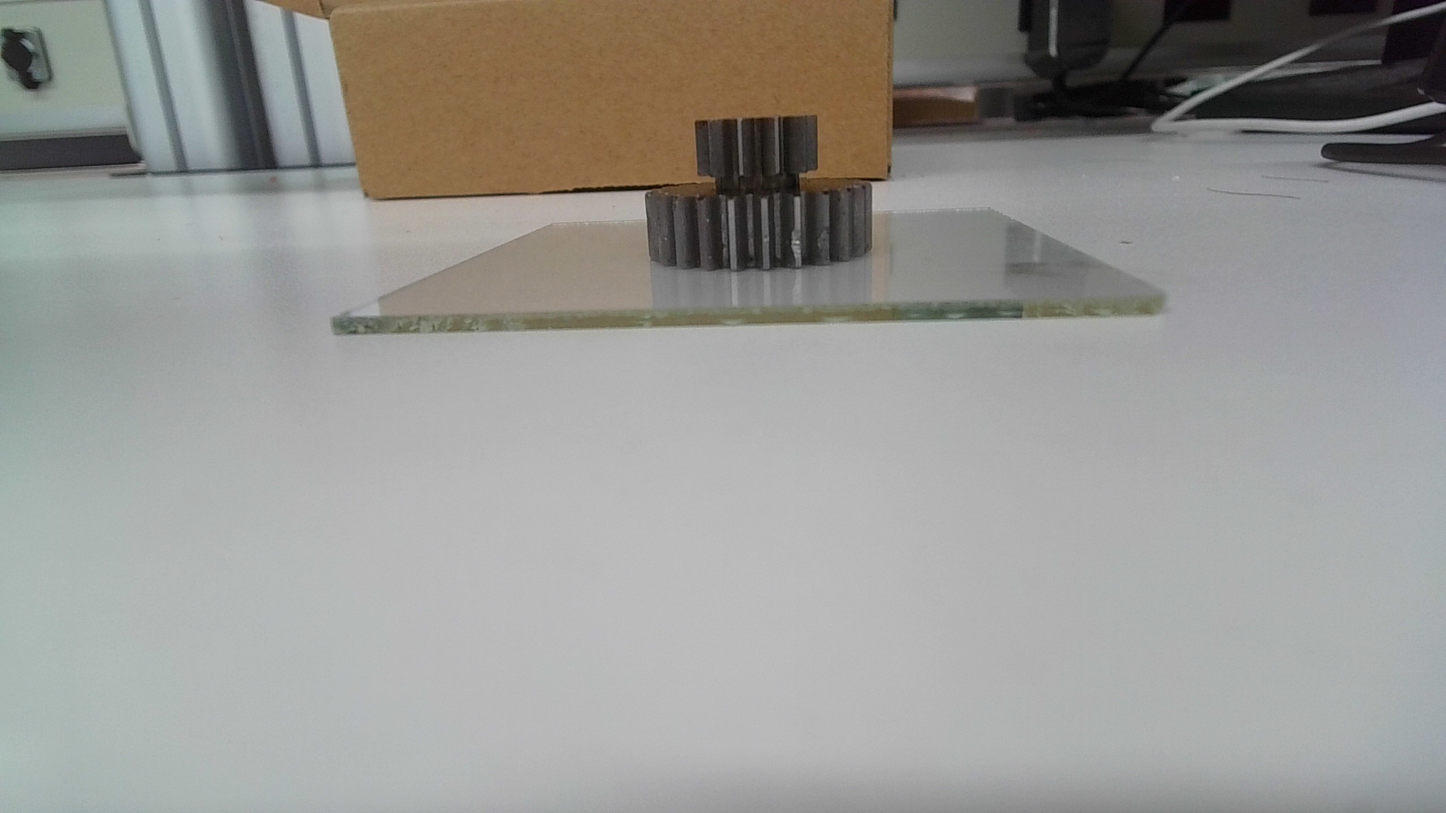gear: (638, 110, 884, 274)
